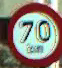Speed limit: (4, 2, 61, 64)
